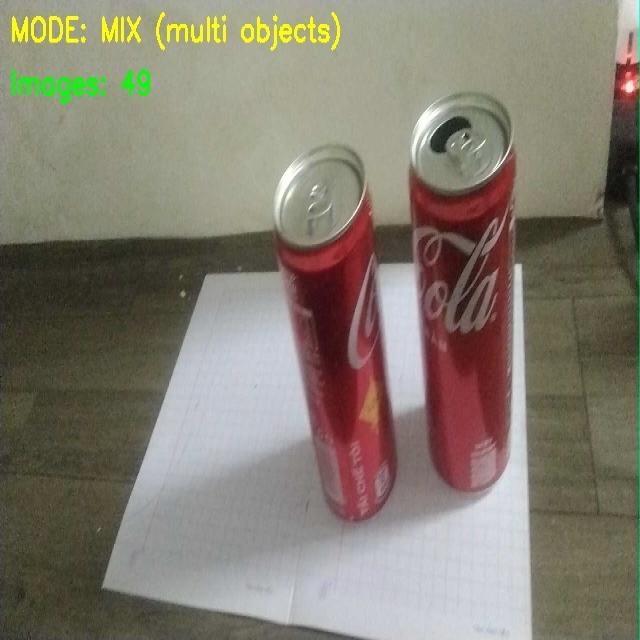Coca: (265, 130, 401, 537)
Coca_open: (408, 98, 559, 516)
